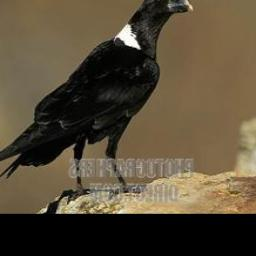Crow: (0, 0, 195, 204)
